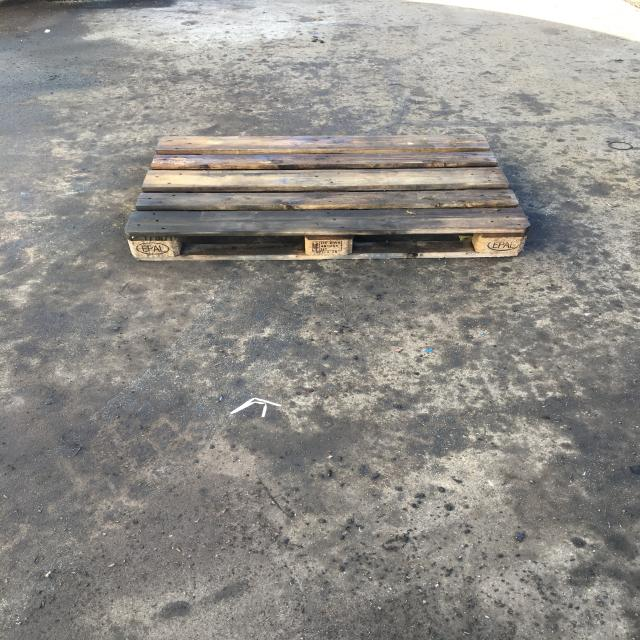block: (126, 234, 178, 261), (302, 233, 354, 258), (477, 232, 528, 256)
front: (121, 222, 527, 262)
